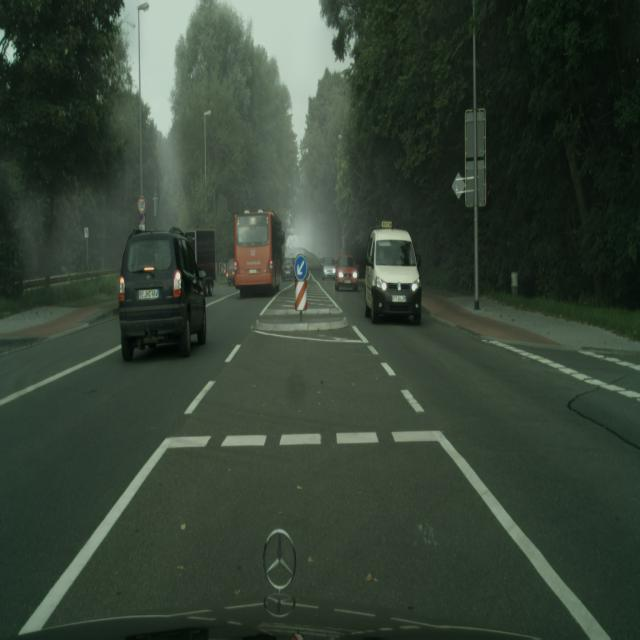bicycle: (234, 209, 285, 294)
truck: (118, 228, 207, 361), (364, 225, 422, 326), (333, 253, 359, 291), (226, 259, 237, 286), (322, 259, 336, 280)
